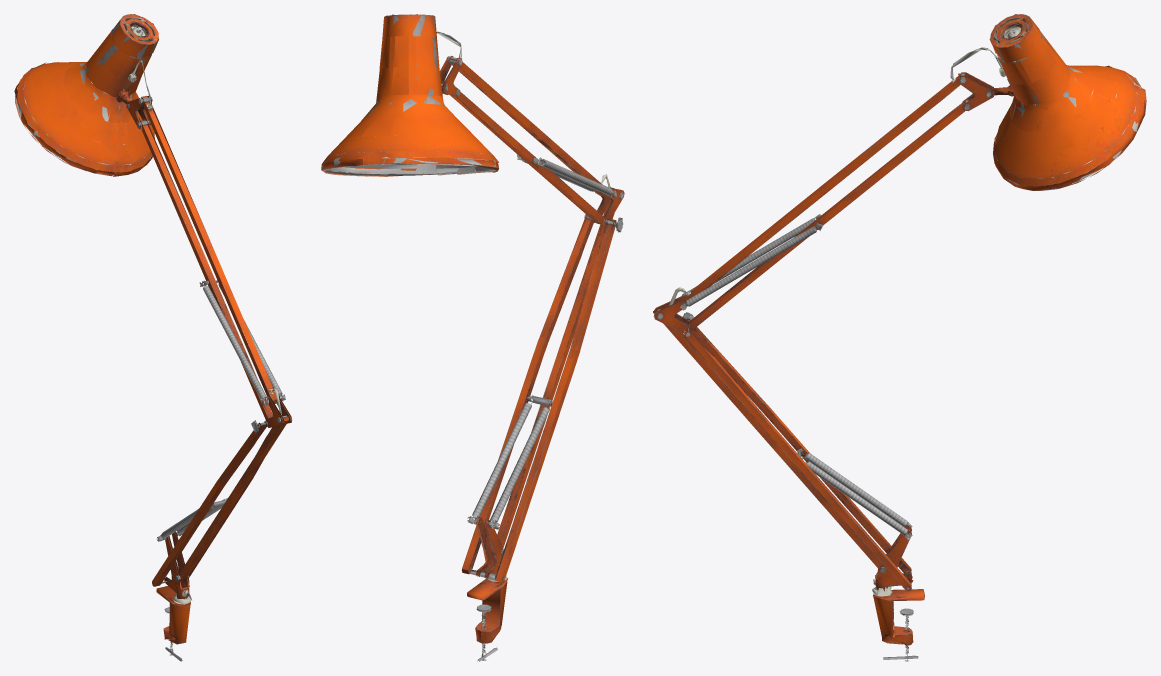
The model's file is ph_desk_lamp_arm_01.glb.
The picture shows the model from 3 angles, left to right: view 1: azimuth 30°, elevation 25°; view 2: azimuth 150°, elevation 25°; view 3: azimuth 270°, elevation 25°; orthographic projection. The views are drawn at different scales.
Visible parts, largest first — view 1: desk_lamp_arm_01; view 2: desk_lamp_arm_01; view 3: desk_lamp_arm_01.
Boxes of the visible parts, x1=… form: desk_lamp_arm_01: x1=14, y1=14, x2=292, y2=661; desk_lamp_arm_01: x1=321, y1=14, x2=624, y2=661; desk_lamp_arm_01: x1=653, y1=14, x2=1146, y2=661.
Size of the model in its own units: 0.2033 by 0.8928 by 0.6158.
Materials: 2 (2 with a texture image).
